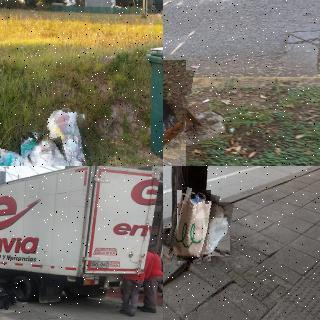Garbage: (173, 188, 215, 263), (45, 105, 94, 166), (19, 132, 64, 166), (206, 202, 232, 256), (0, 150, 37, 166), (0, 286, 17, 306), (0, 293, 9, 308)
